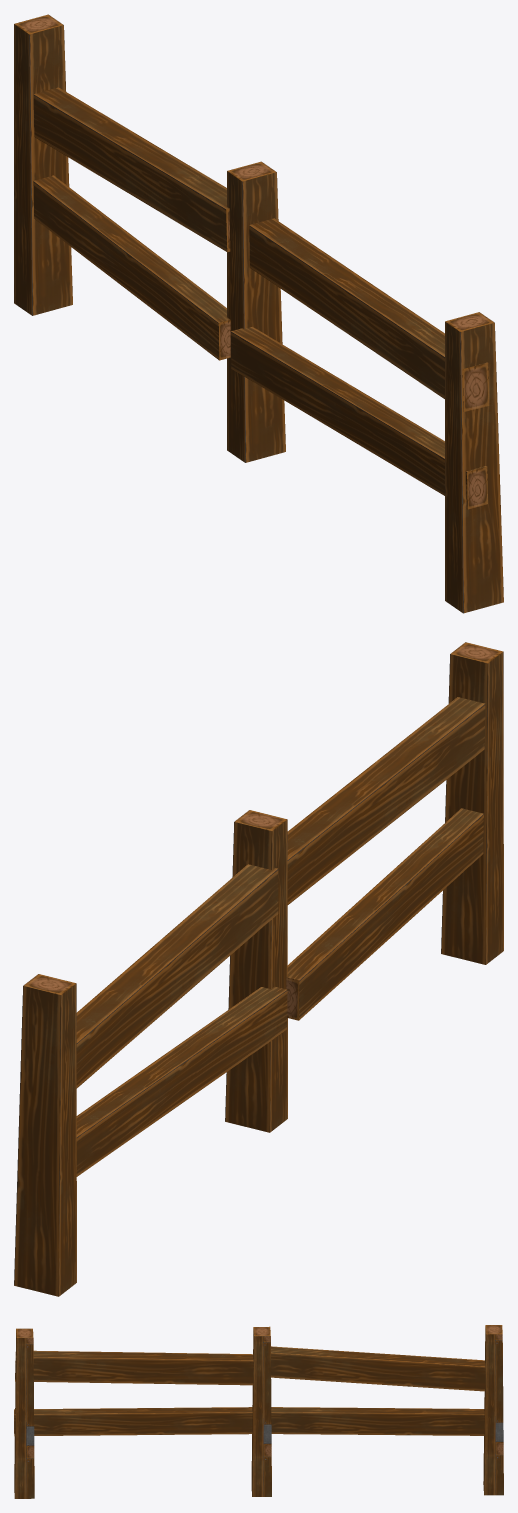
The picture shows the model from 3 angles, top to bottom: view 1: azimuth 30°, elevation 25°; view 2: azimuth 150°, elevation 25°; view 3: azimuth 270°, elevation 25°; orthographic projection. The views are drawn at different scales.
Visible parts, largest first — view 1: Cube.025; view 2: Cube.025; view 3: Cube.025.
Part boxes in pixels (bbox=[...]): Cube.025: bbox=[14, 14, 503, 613]; Cube.025: bbox=[14, 642, 503, 1296]; Cube.025: bbox=[14, 1325, 503, 1498].
Size of the model in its own units: 30.81 by 133 by 368.
Materials: 1 (1 with a texture image).
